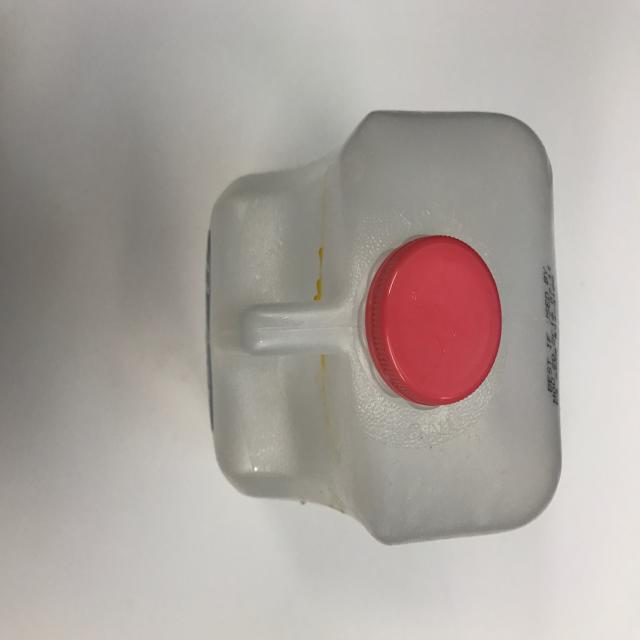plastic: (206, 108, 562, 545)
